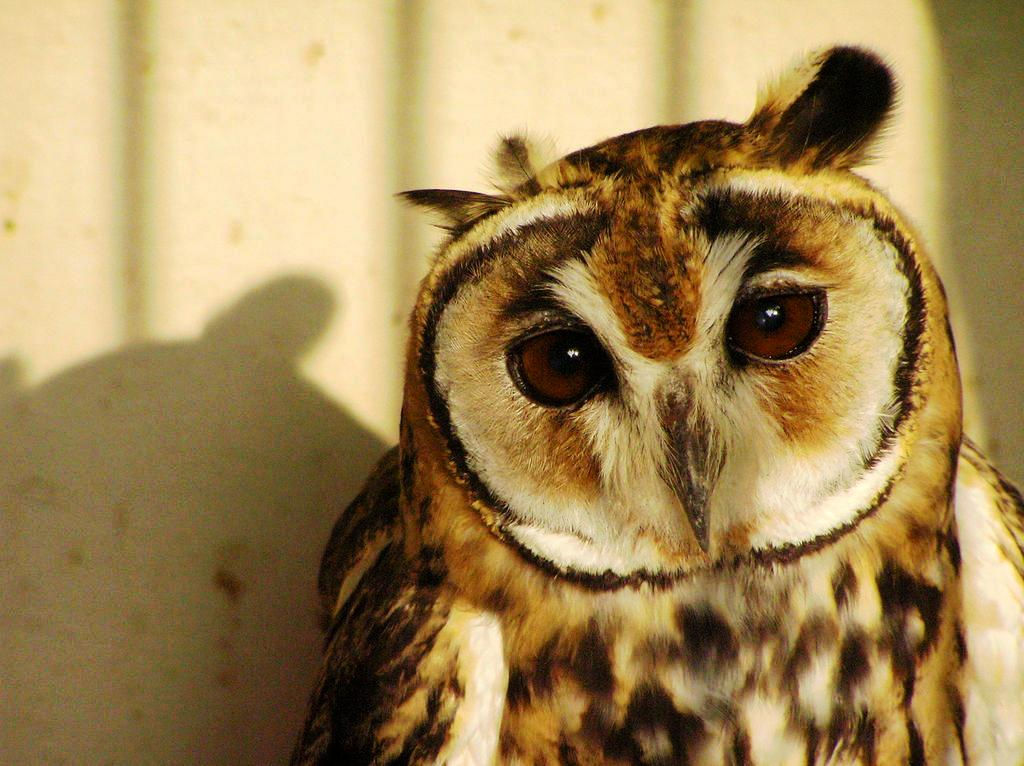Owl: (286, 40, 1024, 766)
